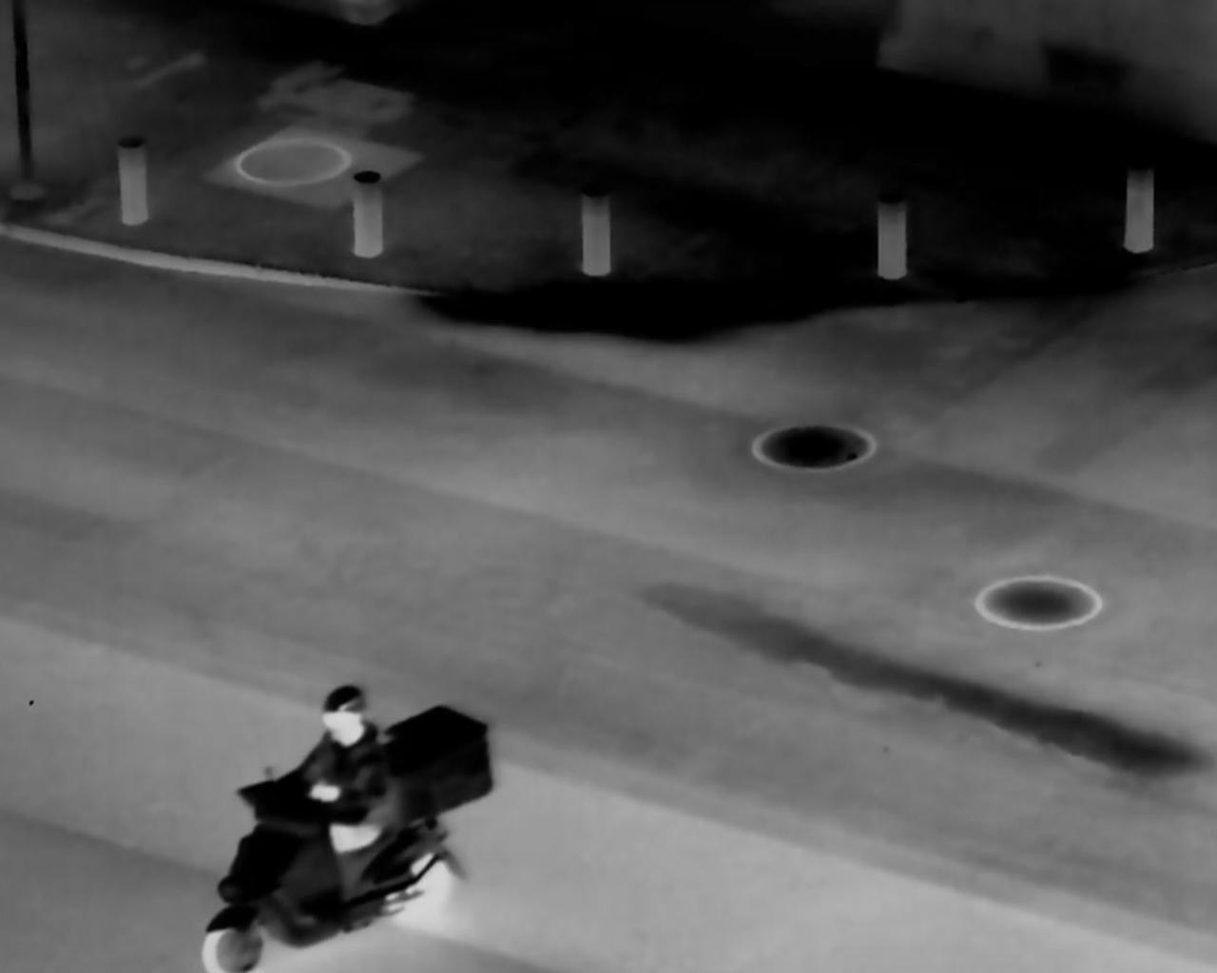person: (258, 670, 400, 915)
